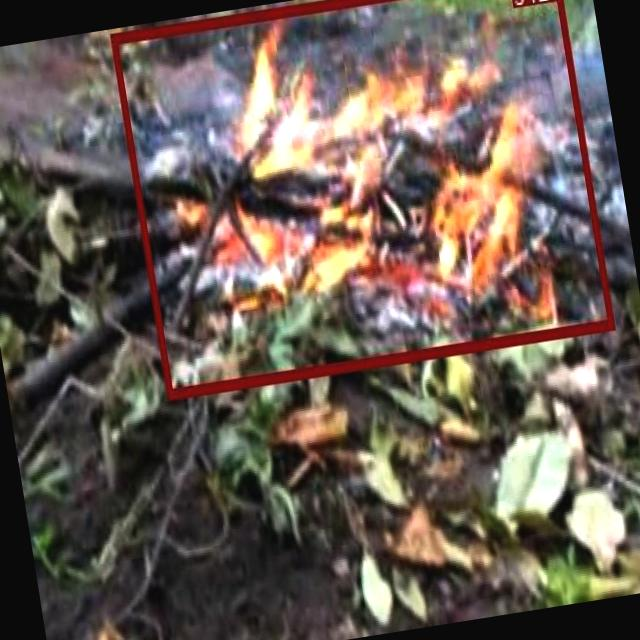fire: (111, 0, 616, 397)
